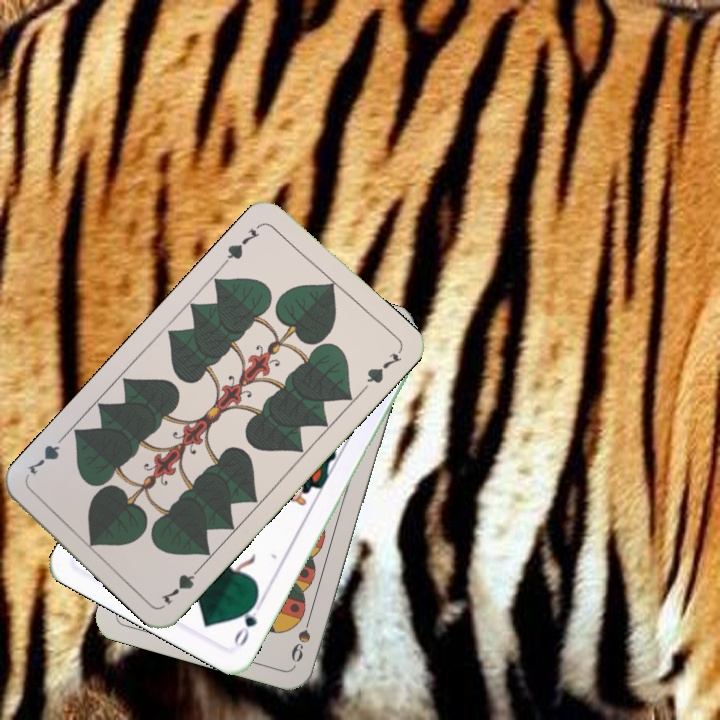G7: (157, 560, 206, 608), (219, 220, 265, 267)
GO: (230, 594, 266, 650)
S9: (287, 608, 315, 665)
